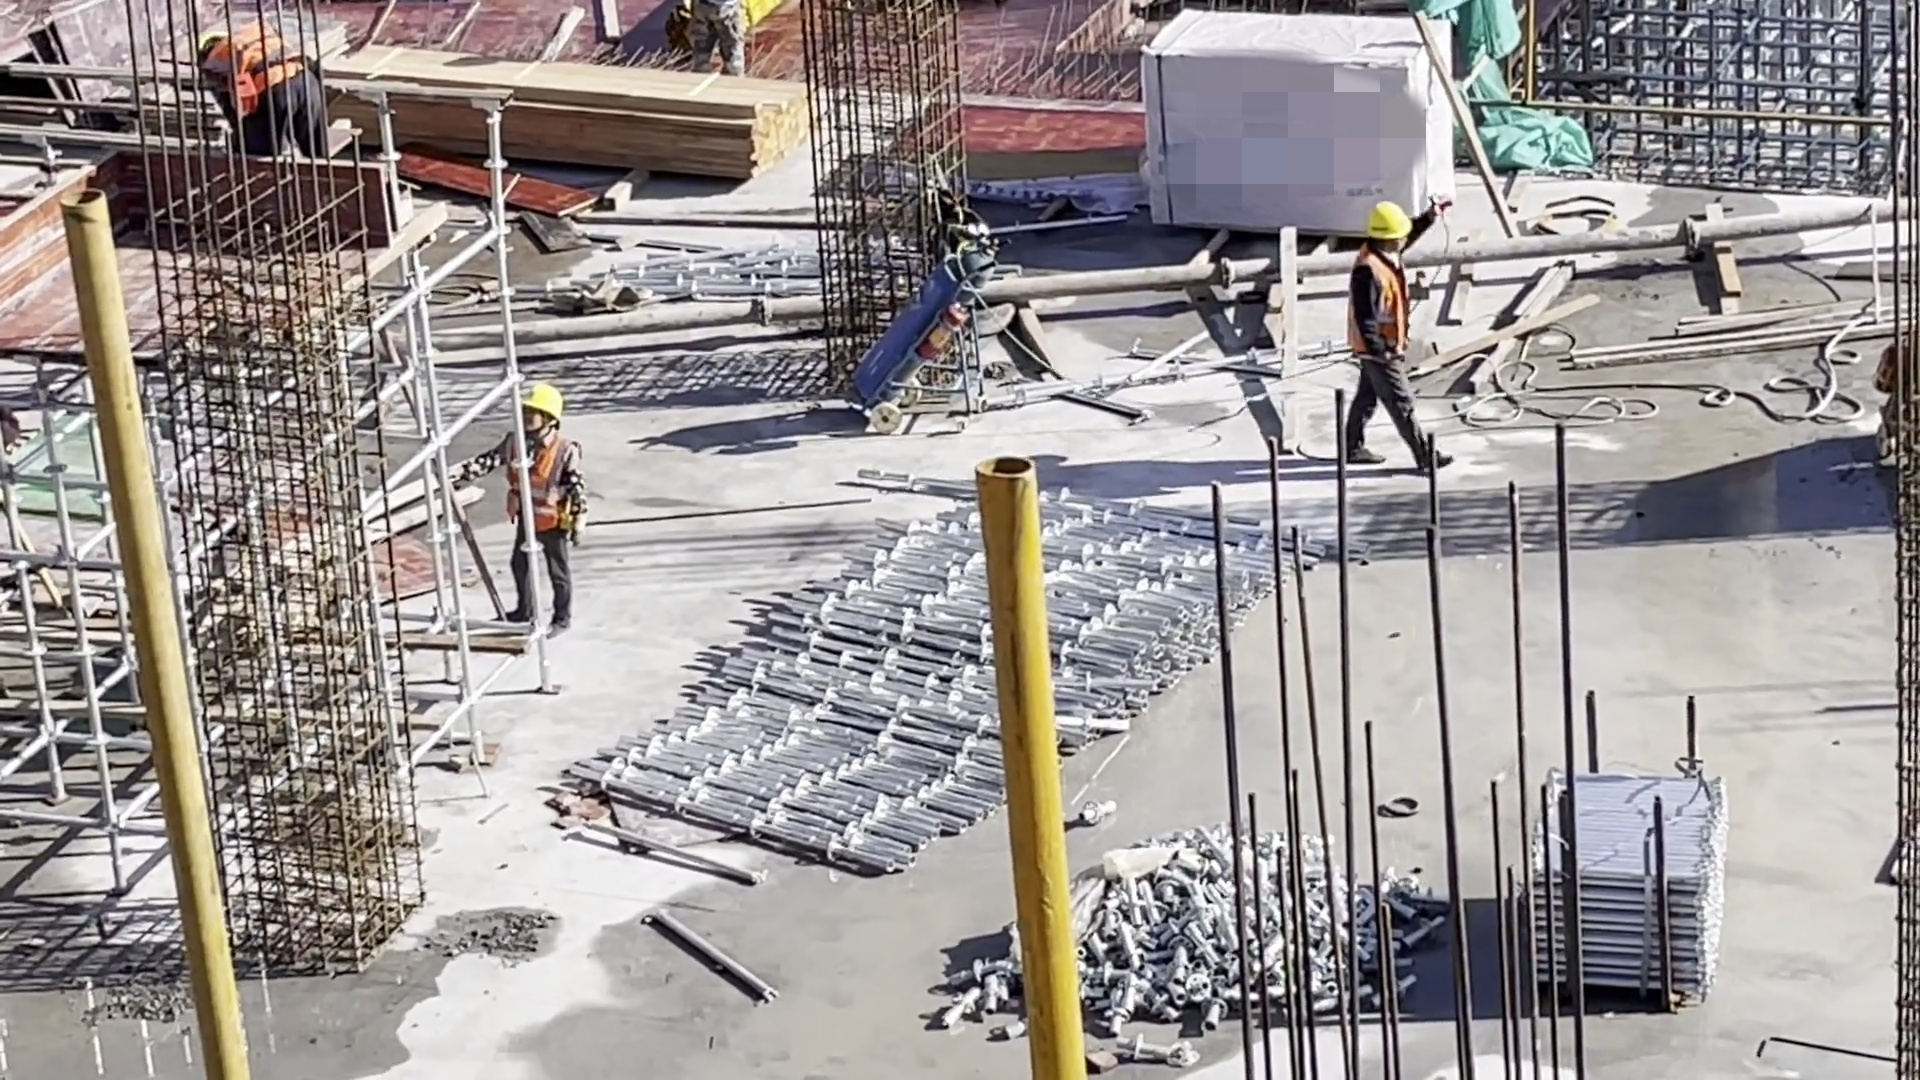helmet: (509, 385, 566, 419), (1366, 201, 1404, 237)
person: (444, 386, 599, 639), (1333, 200, 1454, 489), (180, 30, 330, 165), (682, 1, 758, 76)
scaffold: (565, 489, 1370, 872), (1531, 763, 1725, 1002)
vest: (496, 434, 573, 535), (213, 35, 309, 111), (1350, 248, 1409, 364)
wood: (337, 47, 814, 183)
